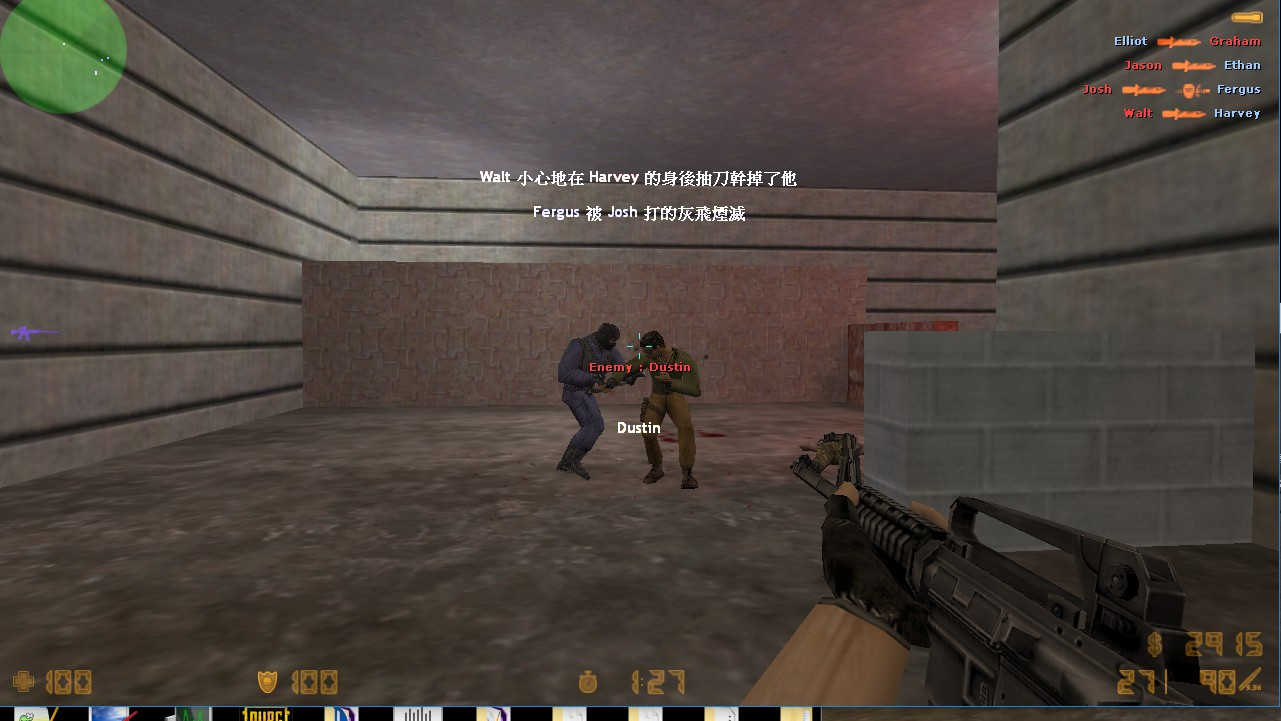person: (624, 330, 708, 491), (556, 314, 623, 484)
